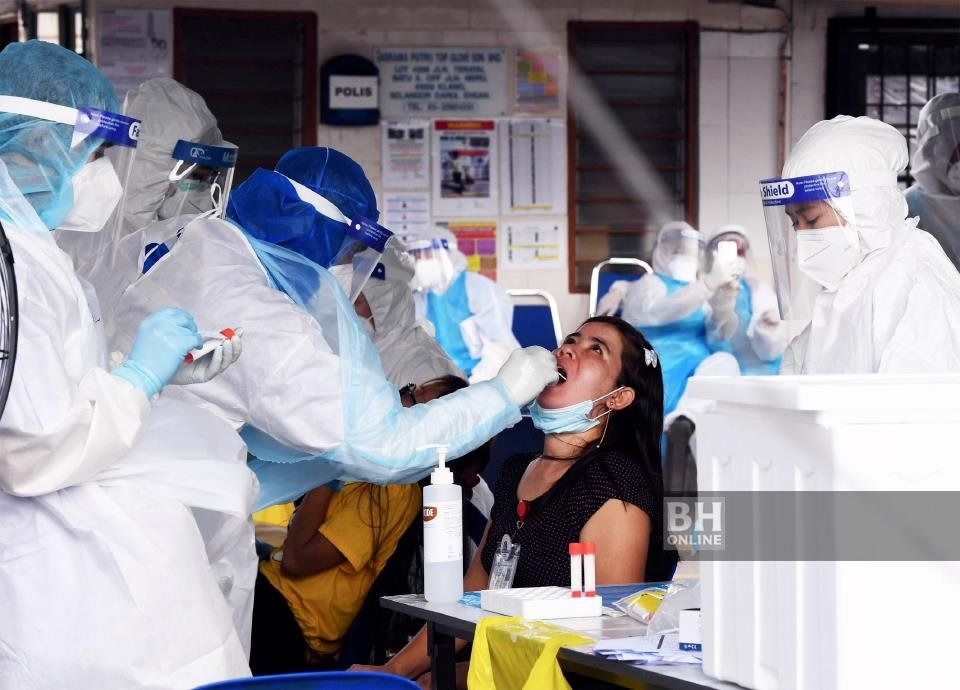Coverall: (749, 105, 960, 388)
Face_Shield: (755, 158, 875, 326), (36, 99, 143, 250), (291, 210, 400, 334), (153, 132, 239, 265), (404, 237, 453, 296)
Gloves: (111, 306, 203, 398), (161, 323, 246, 395), (495, 337, 563, 413), (705, 249, 747, 290)
Mask: (56, 132, 129, 237)
mask_weared_incorrect: (529, 322, 621, 436)
with_mask: (793, 190, 852, 308), (308, 237, 370, 321), (666, 243, 700, 286)
